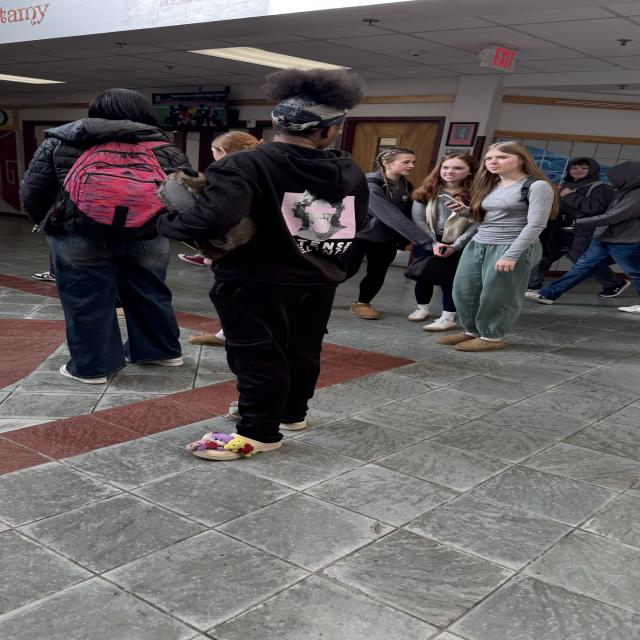pen: (438, 194, 468, 210), (440, 246, 445, 255)
